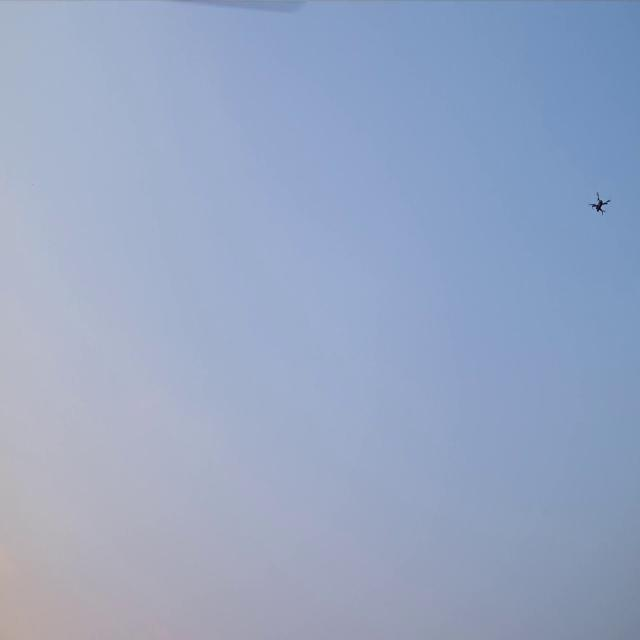UAV: (592, 194, 609, 213)
